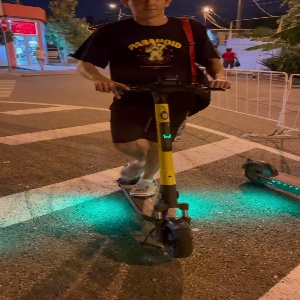human on a scooter: (70, 1, 233, 260)
